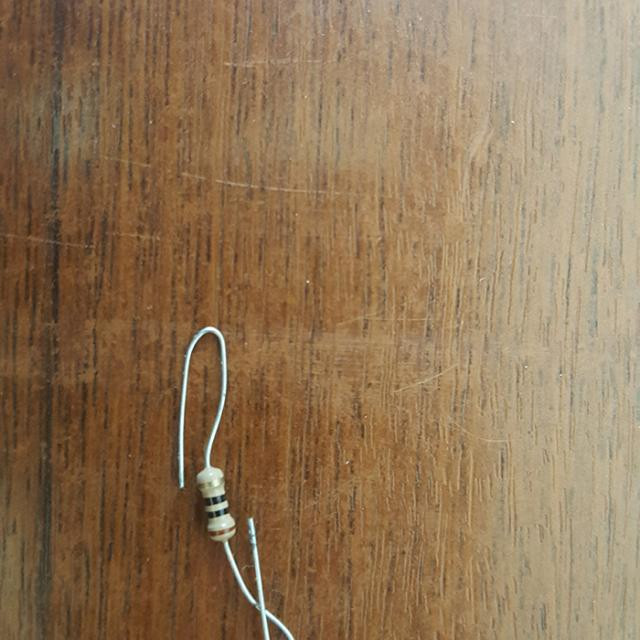black: (206, 507, 229, 517), (204, 494, 226, 504)
brown: (207, 524, 236, 536)
gold: (198, 478, 223, 487)
resistor: (184, 462, 252, 548)
